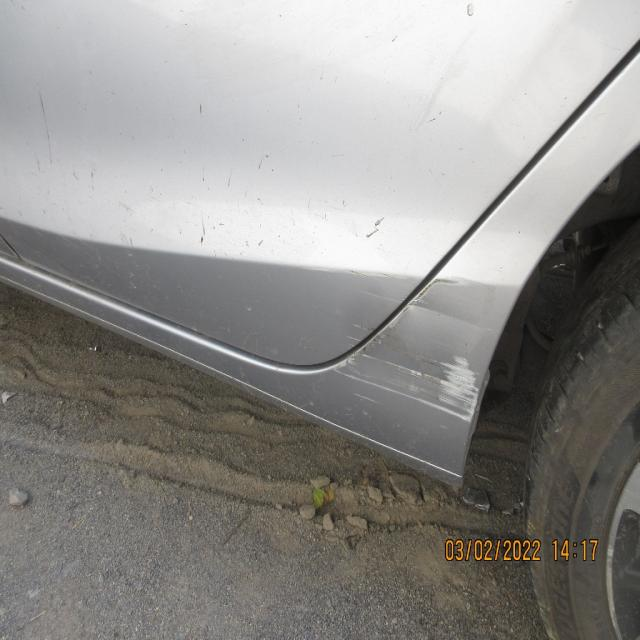damage: (427, 351, 480, 431), (405, 288, 468, 329)
